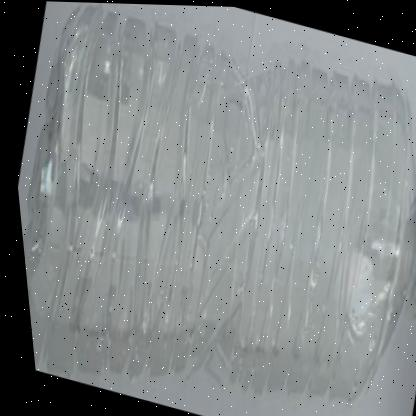open bottle: (291, 50, 416, 416)
